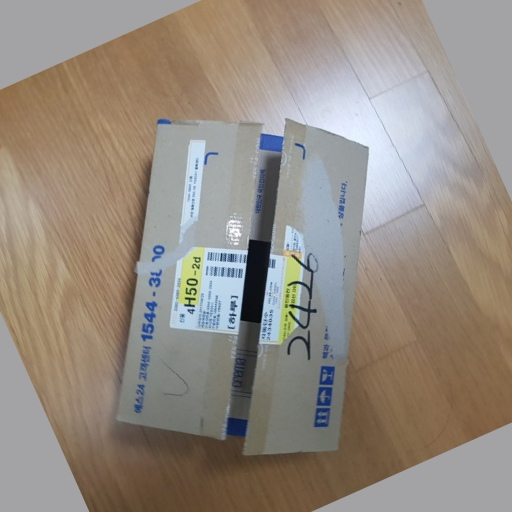Paper_0: (108, 111, 371, 465)
